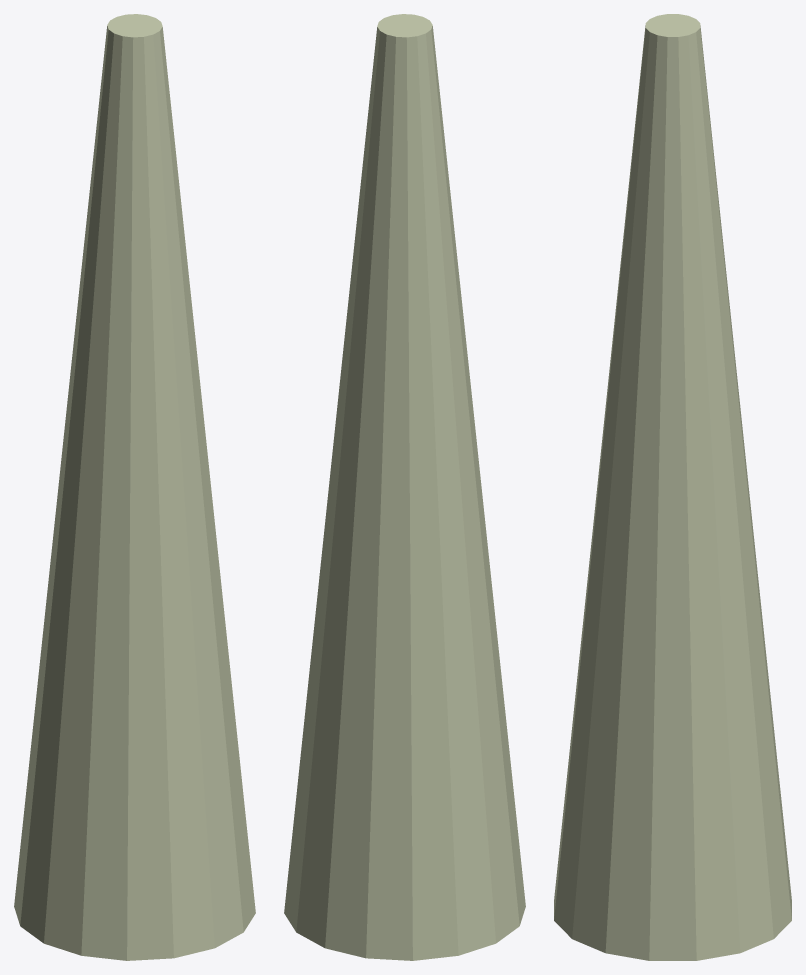
File: Tantares_LES_1_Collider.obj
3 views of the same model, side by side, from view 1: azimuth 30°, elevation 25°; view 2: azimuth 150°, elevation 25°; view 3: azimuth 270°, elevation 25° (orthographic).
Parts seen in each view (by area): view 1: Tantares_LES_1_Collider; view 2: Tantares_LES_1_Collider; view 3: Tantares_LES_1_Collider.
Part boxes in pixels (x1,y1,x2,y2): Tantares_LES_1_Collider: (14, 14, 255, 960); Tantares_LES_1_Collider: (284, 14, 525, 960); Tantares_LES_1_Collider: (554, 14, 791, 960).
Bounding box in the file's own units: 0.9375 × 3.85 × 0.9375.
